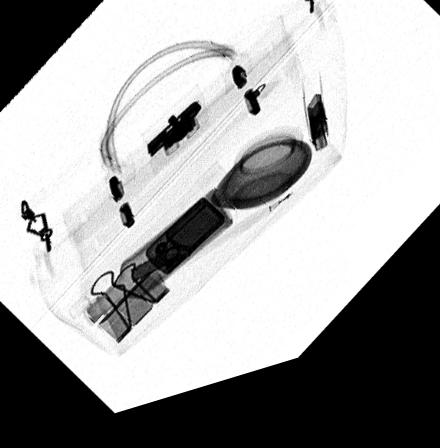Lighter: (145, 207, 226, 285)
